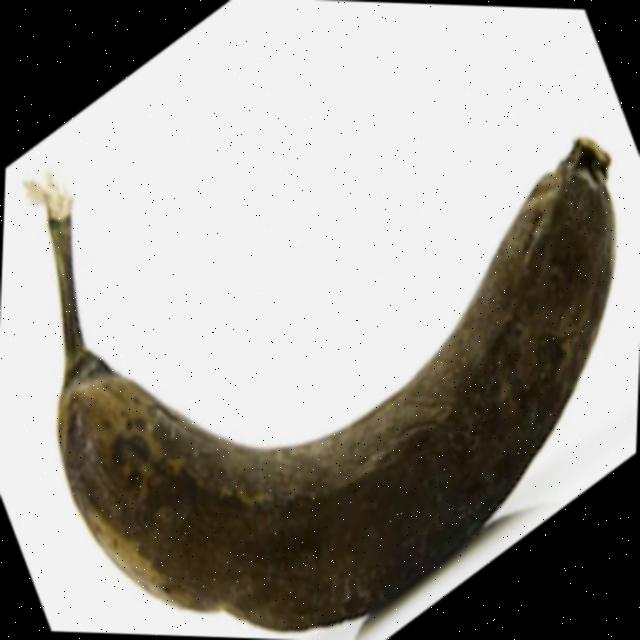Rotten: (0, 60, 627, 640)
